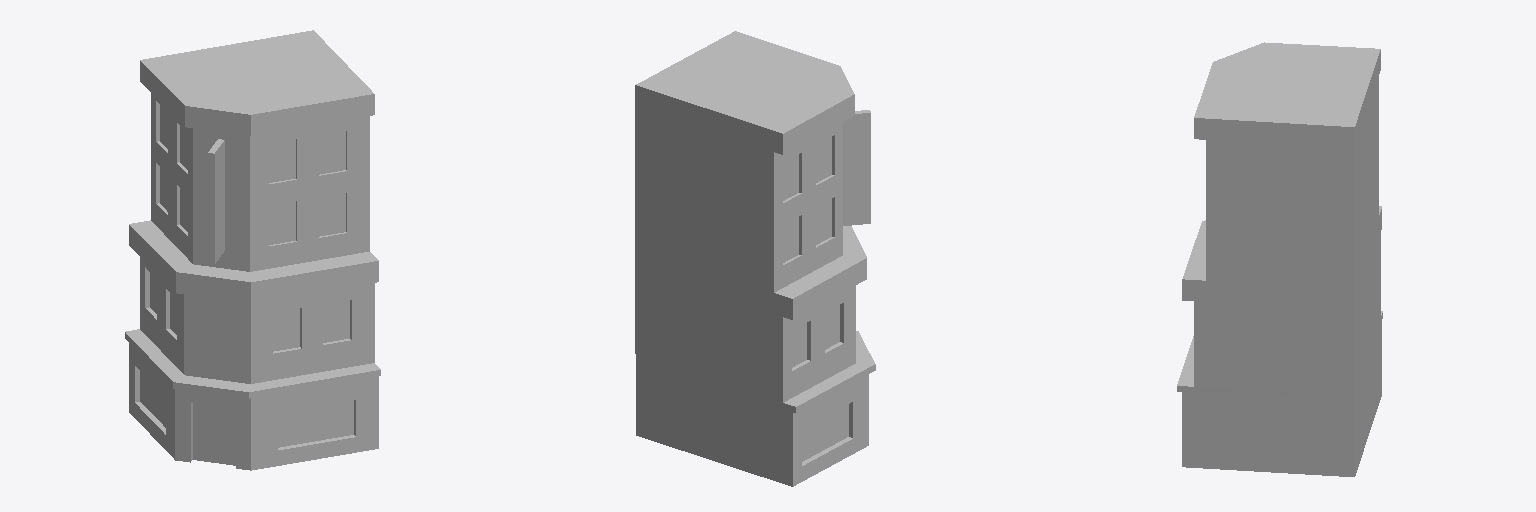
The model's file is house8.obj.
3 renders of one model, left to right at view 1: azimuth 30°, elevation 25°; view 2: azimuth 150°, elevation 25°; view 3: azimuth 270°, elevation 25°, orthographic.
Visible parts, largest first — view 1: pasted__hotel_null_ group11; view 2: pasted__hotel_null_ group11; view 3: pasted__hotel_null_ group11.
Part boxes in pixels (left/top/right/bottom): pasted__hotel_null_ group11: left=125, top=30, right=380, bottom=470; pasted__hotel_null_ group11: left=635, top=31, right=875, bottom=486; pasted__hotel_null_ group11: left=1177, top=42, right=1382, bottom=476.
Bounding box in the file's own units: 43.36 × 76.23 × 40.64.